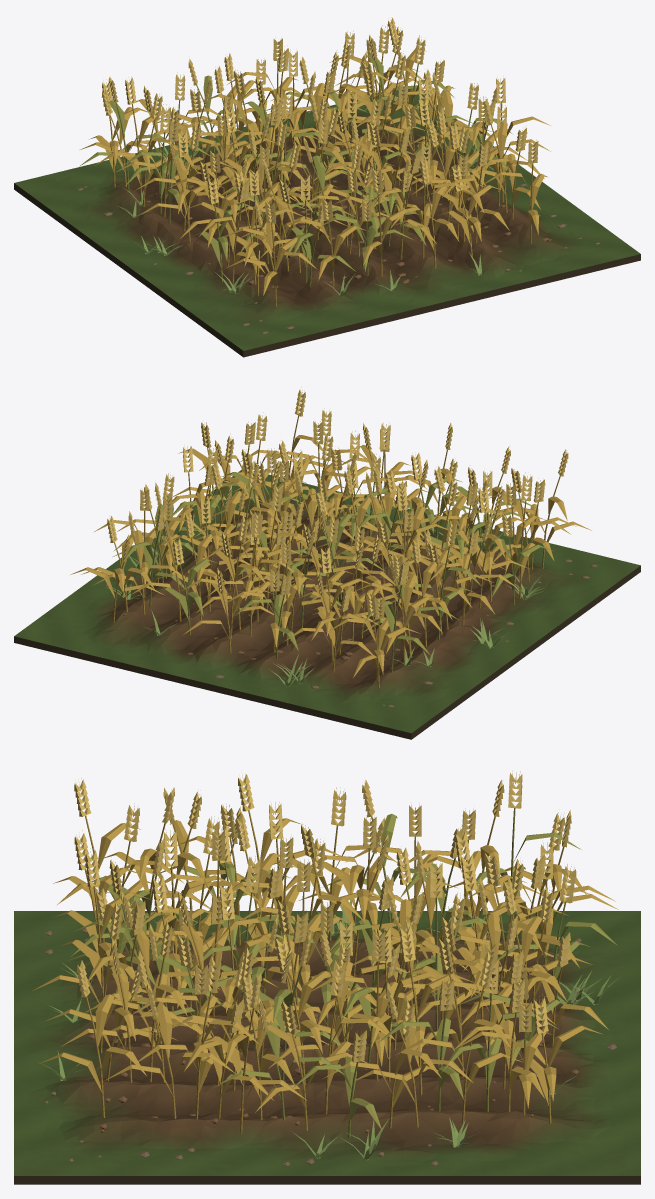
File: wheat-field-v3.glb
3 renders of one model, top to bottom at view 1: azimuth 30°, elevation 25°; view 2: azimuth 150°, elevation 25°; view 3: azimuth 270°, elevation 25°, orthographic. The views are drawn at different scales.
Parts seen in each view (by area): view 1: Static_mesh, WheatPlant_mesh, WheatPlant.038_mesh, WheatPlant.056_mesh, WheatPlant.020_mesh, WheatPlant.077_mesh, WheatPlant.097_mesh, WheatPlant.095_mesh, WheatPlant.005_mesh, WheatPlant.021_mesh, WheatPlant.004_mesh, WheatPlant.016_mesh (+22 smaller); view 2: Static_mesh, WheatPlant.094_mesh, WheatPlant.019_mesh, WheatPlant.075_mesh, WheatPlant.015_mesh, WheatPlant.016_mesh, WheatPlant.013_mesh, WheatPlant.112_mesh, WheatPlant.037_mesh, WheatPlant.017_mesh, WheatPlant.109_mesh, WheatPlant.005_mesh (+19 smaller); view 3: Static_mesh, WheatPlant.095_mesh, WheatPlant.108_mesh, WheatPlant.099_mesh, WheatPlant.096_mesh, WheatPlant.038_mesh, WheatPlant.112_mesh, WheatPlant.097_mesh, WheatPlant.107_mesh, WheatPlant.102_mesh, WheatPlant.105_mesh, WheatPlant.086_mesh (+71 smaller).
Part boxes in pixels (x1,y1,x2,y2): Static_mesh: (14,88,640,357); WheatPlant_mesh: (224,223,308,306); WheatPlant.038_mesh: (332,192,419,276); WheatPlant.056_mesh: (393,181,459,268); WheatPlant.020_mesh: (283,218,368,287); WheatPlant.077_mesh: (439,185,502,258); WheatPlant.097_mesh: (469,122,544,213); WheatPlant.095_mesh: (481,163,547,243); WheatPlant.005_mesh: (193,203,253,282); WheatPlant.021_mesh: (285,227,355,287); WheatPlant.004_mesh: (199,202,265,287); WheatPlant.016_mesh: (118,104,167,202); Static_mesh: (14,470,640,739); WheatPlant.094_mesh: (155,558,218,634); WheatPlant.019_mesh: (335,613,420,687); WheatPlant.075_mesh: (182,542,272,638); WheatPlant.015_mesh: (362,575,442,663); WheatPlant.016_mesh: (354,577,433,665); WheatPlant.013_mesh: (391,561,452,647); WheatPlant.112_mesh: (70,561,165,622); WheatPlant.037_mesh: (311,611,372,672); WheatPlant.017_mesh: (364,585,430,672); WheatPlant.109_mesh: (122,530,186,607); WheatPlant.005_mesh: (465,533,553,604); Static_mesh: (14,911,640,1184); WheatPlant.095_mesh: (39,994,146,1117); WheatPlant.108_mesh: (395,987,522,1123); WheatPlant.099_mesh: (198,1008,306,1133); WheatPlant.096_mesh: (103,1006,235,1118); WheatPlant.038_mesh: (59,886,149,1000); WheatPlant.112_mesh: (514,1025,603,1123); WheatPlant.097_mesh: (133,992,259,1119); WheatPlant.107_mesh: (377,1010,463,1111); WheatPlant.102_mesh: (250,1024,367,1131); WheatPlant.105_mesh: (323,1035,441,1128); WheatPlant.086_mesh: (274,971,332,1084).
Size of the model in its own units: 3.5 by 1.16 by 3.5.
